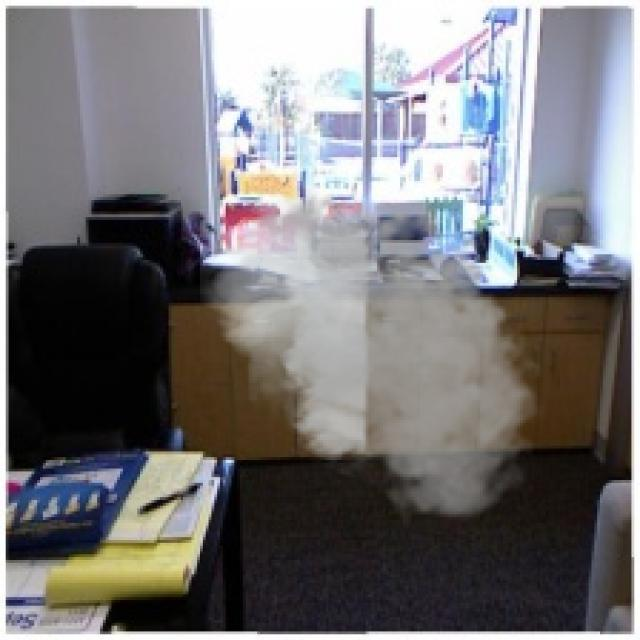Smoke: (199, 183, 552, 526)
